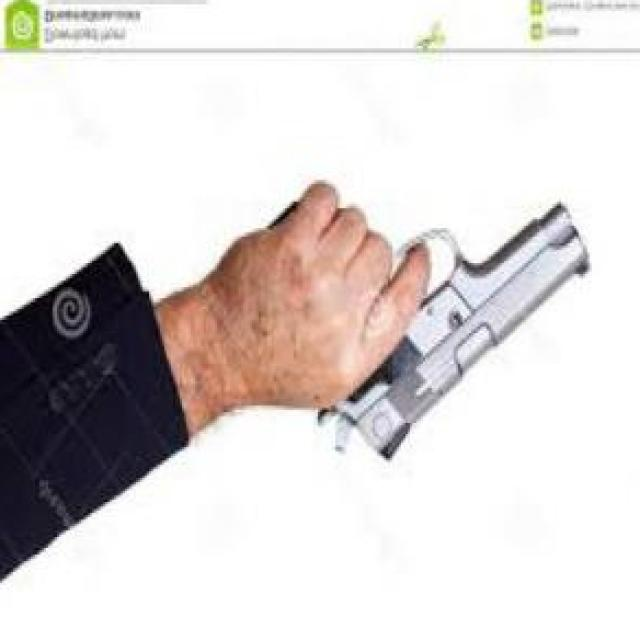pistol: (263, 180, 591, 467)
